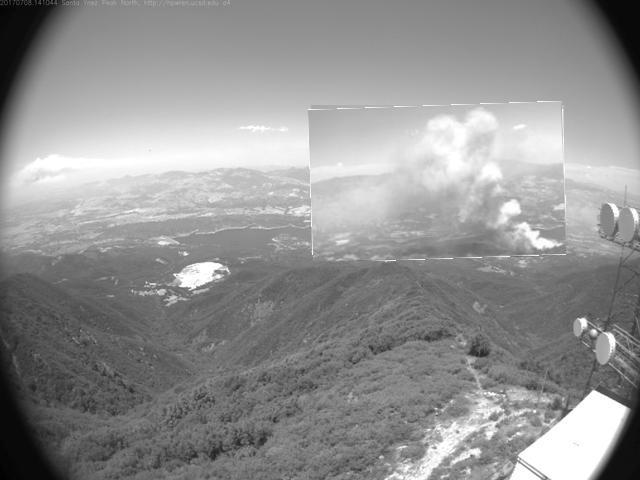smoke: (311, 104, 567, 261)
